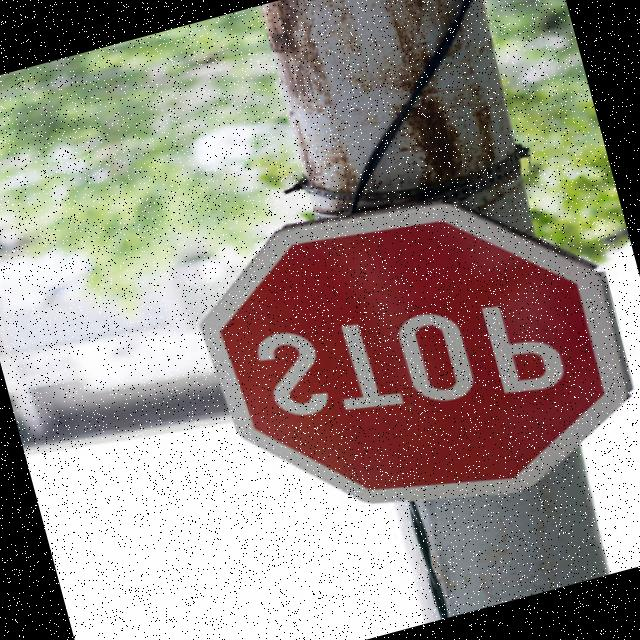stop: (165, 148, 640, 567)
